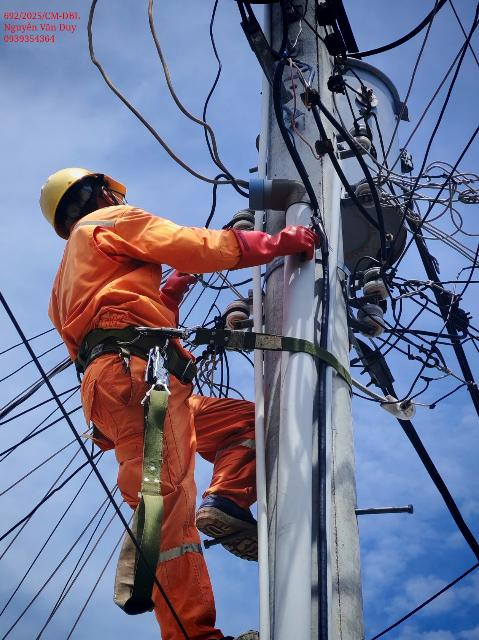gloves: (235, 216, 330, 278)
harness: (69, 323, 233, 396), (152, 250, 205, 321)
helmet: (19, 158, 159, 225)
shoes: (175, 469, 290, 571)
